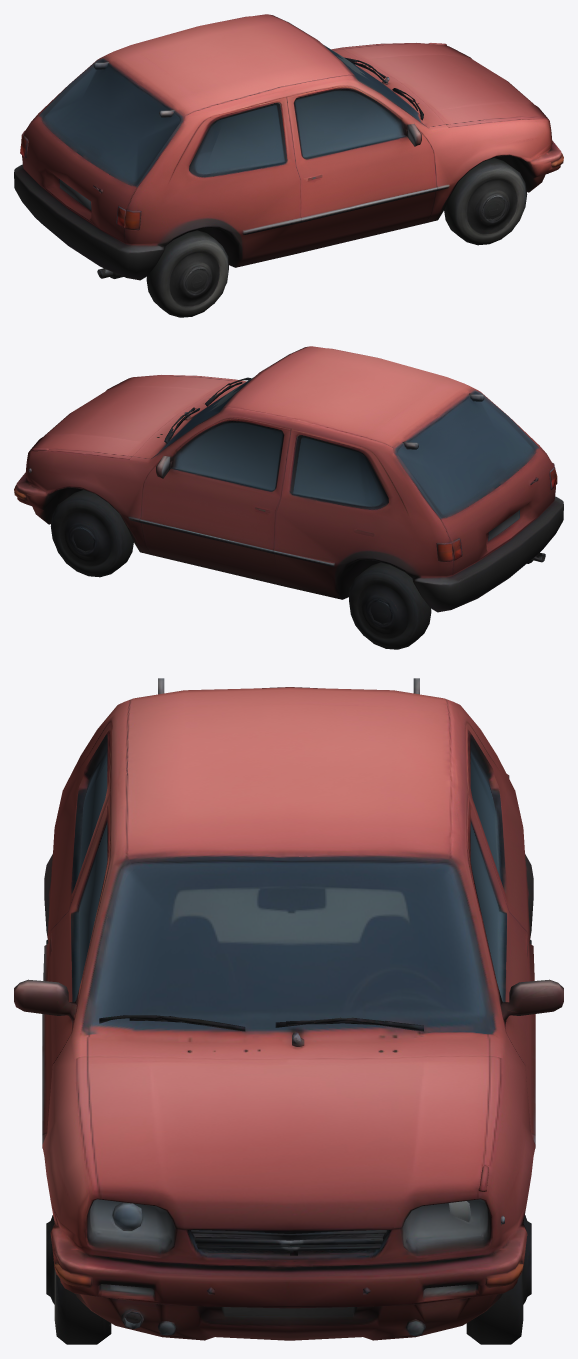
Rendered from damaged_repair_car_with_writing_readable.glb.
The picture shows the model from 3 angles, top to bottom: view 1: azimuth 30°, elevation 25°; view 2: azimuth 150°, elevation 25°; view 3: azimuth 270°, elevation 25°; orthographic projection. The views are drawn at different scales.
Visible parts, largest first — view 1: tripo_node_e0ba38e5-cbad-40e5-aa68-c150dd8bfddb; view 2: tripo_node_e0ba38e5-cbad-40e5-aa68-c150dd8bfddb; view 3: tripo_node_e0ba38e5-cbad-40e5-aa68-c150dd8bfddb.
Part boxes in pixels (x1,y1,x2,y2): tripo_node_e0ba38e5-cbad-40e5-aa68-c150dd8bfddb: (14, 14, 563, 317); tripo_node_e0ba38e5-cbad-40e5-aa68-c150dd8bfddb: (14, 346, 563, 649); tripo_node_e0ba38e5-cbad-40e5-aa68-c150dd8bfddb: (14, 678, 563, 1344).
Size of the model in its own units: 0.998 by 0.4082 by 0.5293.
1 material, 1 textured.
